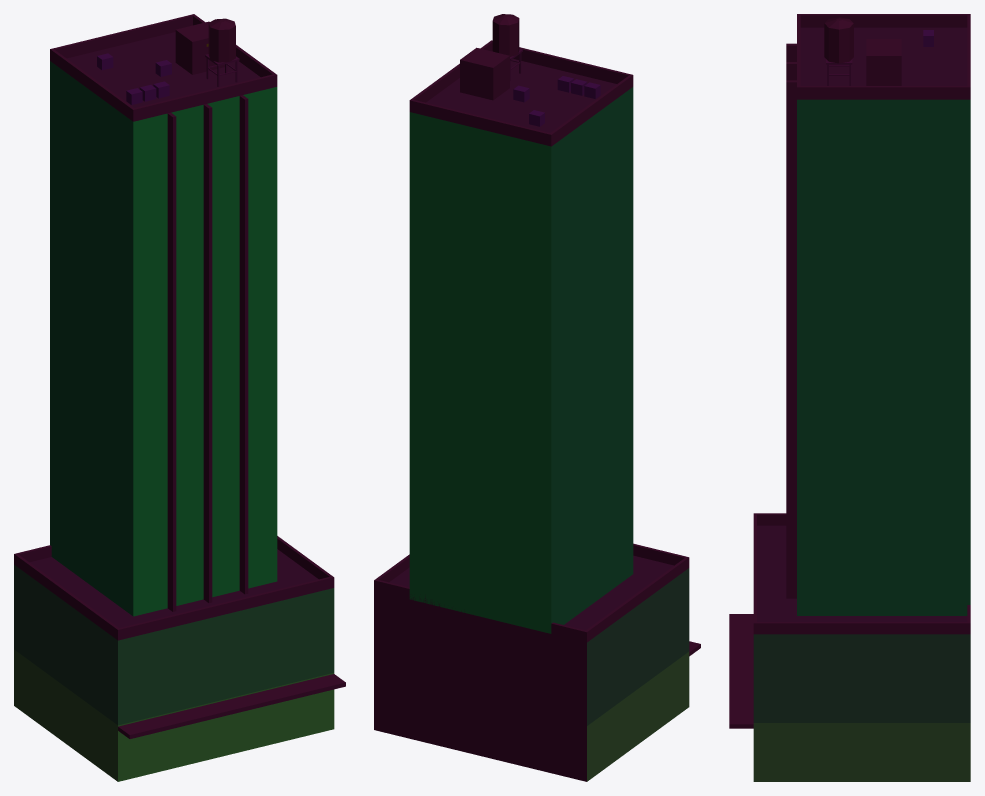
File: midrise_g.glb
The picture shows the model from 3 angles, left to right: view 1: azimuth 30°, elevation 25°; view 2: azimuth 150°, elevation 25°; view 3: azimuth 270°, elevation 25°; orthographic projection. The views are drawn at different scales.
Visible parts, largest first — view 1: midrise_g; view 2: midrise_g; view 3: midrise_g.
Boxes of the visible parts, left/top/right/bottom form: midrise_g: left=14, top=14, right=345, bottom=781; midrise_g: left=374, top=14, right=700, bottom=781; midrise_g: left=729, top=14, right=970, bottom=781.
Size of the model in its own units: 19.2 by 59.06 by 17.8.
